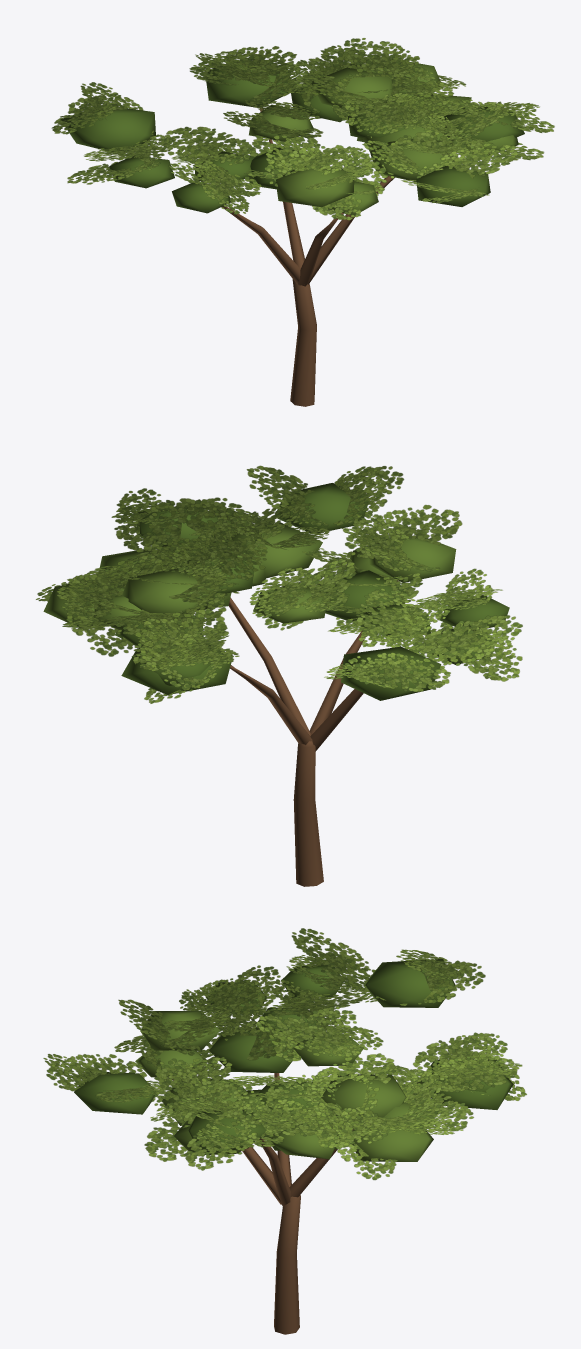
Rendered from nature_acacia.glb.
The picture shows the model from 3 angles, top to bottom: view 1: azimuth 30°, elevation 25°; view 2: azimuth 150°, elevation 25°; view 3: azimuth 270°, elevation 25°; orthographic projection. The views are drawn at different scales.
Visible parts, largest first — view 1: nature_acacia; view 2: nature_acacia; view 3: nature_acacia.
Part boxes in pixels (x1=…): nature_acacia: x1=51, y1=38, x2=554, y2=406; nature_acacia: x1=36, y1=465, x2=522, y2=886; nature_acacia: x1=43, y1=928, x2=526, y2=1334.
Size of the model in its own units: 9.47 by 5.73 by 9.05.
Materials: 4 (1 with a texture image).
